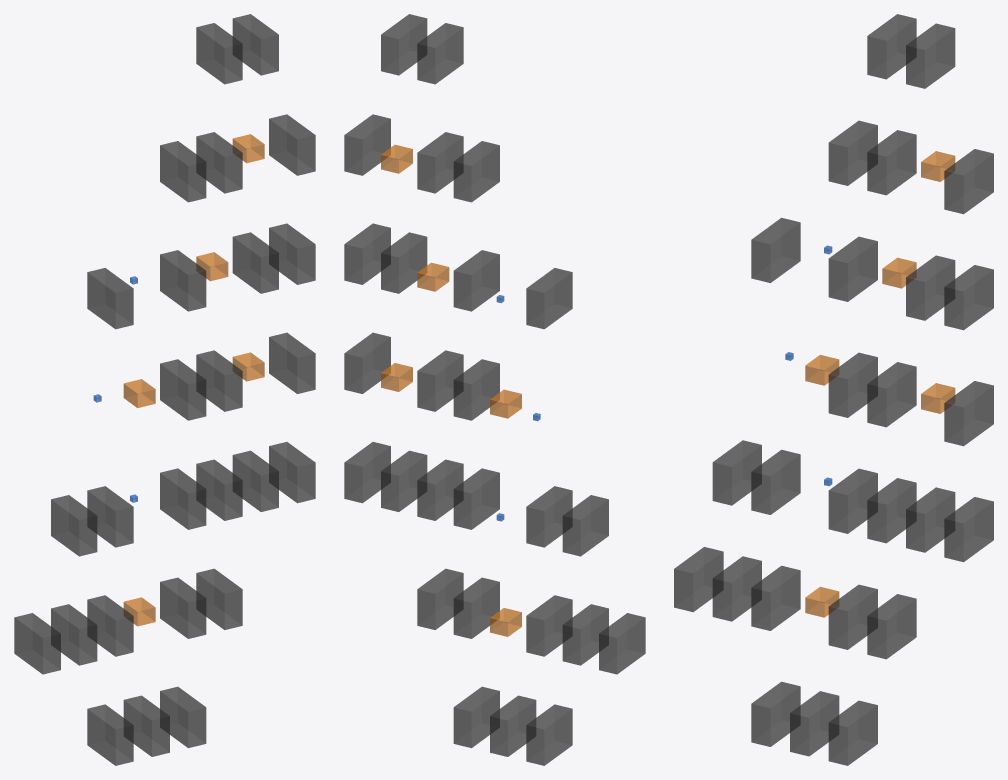
Rendered from narkomfin_variant_05.obj.
3 renders of one model, left to right at view 1: azimuth 30°, elevation 25°; view 2: azimuth 150°, elevation 25°; view 3: azimuth 330°, elevation 25°, orthographic. The views are drawn at different scales.
Visible parts, largest first — view 1: n27, n14, n26, n7, n20, n18, n4, n12, n22, n28, b, n1 (+19 smaller); view 2: n27, n14, n7, n20, n18, n28, b, n9, n19, n4, n15, n8 (+19 smaller); view 3: n13, n2, n3, n29, n10, b, n12, n15, n25, n6, n7, n19 (+19 smaller).
Boxes of the visible parts, x1,y1,x2,y2 form: n27: (160, 468, 206, 529); n14: (196, 23, 242, 84); n26: (160, 577, 206, 638); n7: (87, 268, 133, 329); n20: (14, 613, 60, 674); n18: (87, 704, 133, 765); n4: (160, 359, 206, 420); n12: (269, 114, 315, 175); n22: (269, 332, 315, 393); n28: (160, 141, 206, 202); b: (160, 250, 206, 311); n1: (232, 232, 278, 293); n27: (453, 468, 499, 529); n14: (417, 23, 463, 84); n7: (526, 268, 572, 329); n20: (599, 613, 645, 674); n18: (526, 704, 572, 765); n28: (453, 141, 499, 202); b: (453, 250, 499, 311); n9: (562, 495, 608, 556); n19: (453, 686, 499, 748); n4: (453, 359, 499, 420); n15: (344, 223, 390, 284); n8: (562, 604, 608, 665); n13: (906, 23, 955, 88); n2: (867, 130, 916, 195); n3: (867, 362, 916, 427); n29: (867, 594, 916, 659); n10: (751, 565, 800, 630); b: (828, 236, 877, 301); n12: (944, 149, 993, 214); n15: (944, 265, 993, 330); n25: (944, 497, 993, 562); n6: (751, 449, 800, 514); n7: (751, 217, 800, 282); n19: (828, 700, 877, 765).
Bounding box in the file's own units: 54.9 × 133 × 9.9.
